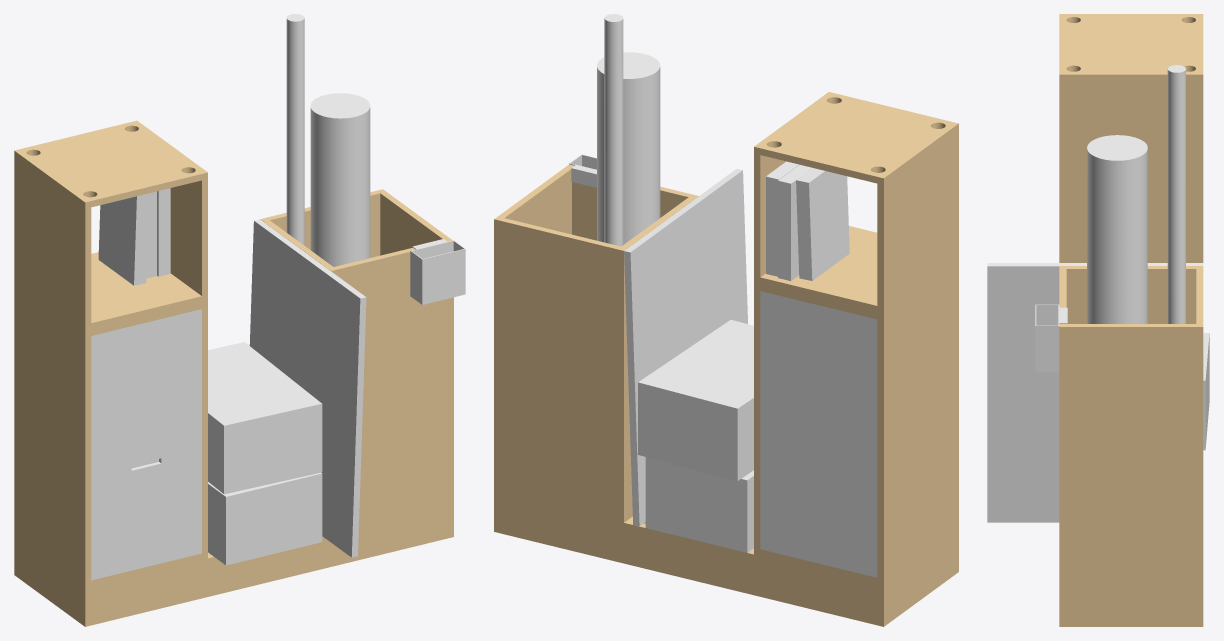
File: kirikae.glb
3 views of the same model, side by side, from view 1: azimuth 30°, elevation 25°; view 2: azimuth 150°, elevation 25°; view 3: azimuth 270°, elevation 25° (orthographic). The views are drawn at different scales.
Parts seen in each view (by area): view 1: example3005, example3002, example3004, example3012, example3003, example3013, example3007, example3001, example3011, example3008, example3010, example3009 (+5 smaller); view 2: example3002, example3005, example3004, example3003, example3012, example3007, example3013, example3001, example3011, example3008, example3009, example3010 (+5 smaller); view 3: example3002, example3005, example3012, example3001, example3003, example3, example3004, example3014, example3013.
Part boxes in pixels (box(x1,y1,x2,y2)): example3005: box(14, 120, 207, 330); example3002: box(260, 189, 453, 521); example3004: box(14, 279, 207, 588); example3012: box(249, 219, 366, 557); example3003: box(14, 498, 453, 626); example3013: box(208, 342, 322, 494); example3007: box(91, 437, 201, 580); example3001: box(310, 93, 370, 266); example3011: box(208, 472, 322, 565); example3008: box(91, 309, 201, 378); example3010: box(91, 395, 201, 464); example3009: box(91, 352, 201, 421); example3002: box(494, 164, 698, 522); example3005: box(754, 92, 958, 314); example3004: box(754, 259, 958, 585); example3003: box(494, 491, 958, 626); example3012: box(624, 169, 747, 526); example3007: box(760, 427, 877, 577); example3013: box(638, 320, 753, 480); example3001: box(597, 52, 660, 244); example3011: box(645, 457, 753, 552); example3008: box(760, 291, 877, 364); example3009: box(760, 336, 877, 409); example3010: box(760, 381, 877, 455); example3002: box(1059, 266, 1203, 587); example3005: box(1059, 14, 1203, 205); example3012: box(987, 263, 1203, 522); example3001: box(1087, 135, 1147, 323); example3003: box(1059, 588, 1203, 626); example3: box(1167, 65, 1185, 323); example3004: box(1059, 205, 1203, 262); example3014: box(1035, 304, 1067, 372); example3013: box(1203, 333, 1209, 450).
Bounding box in the file's own units: 0.9 × 1.19 × 0.4629.
